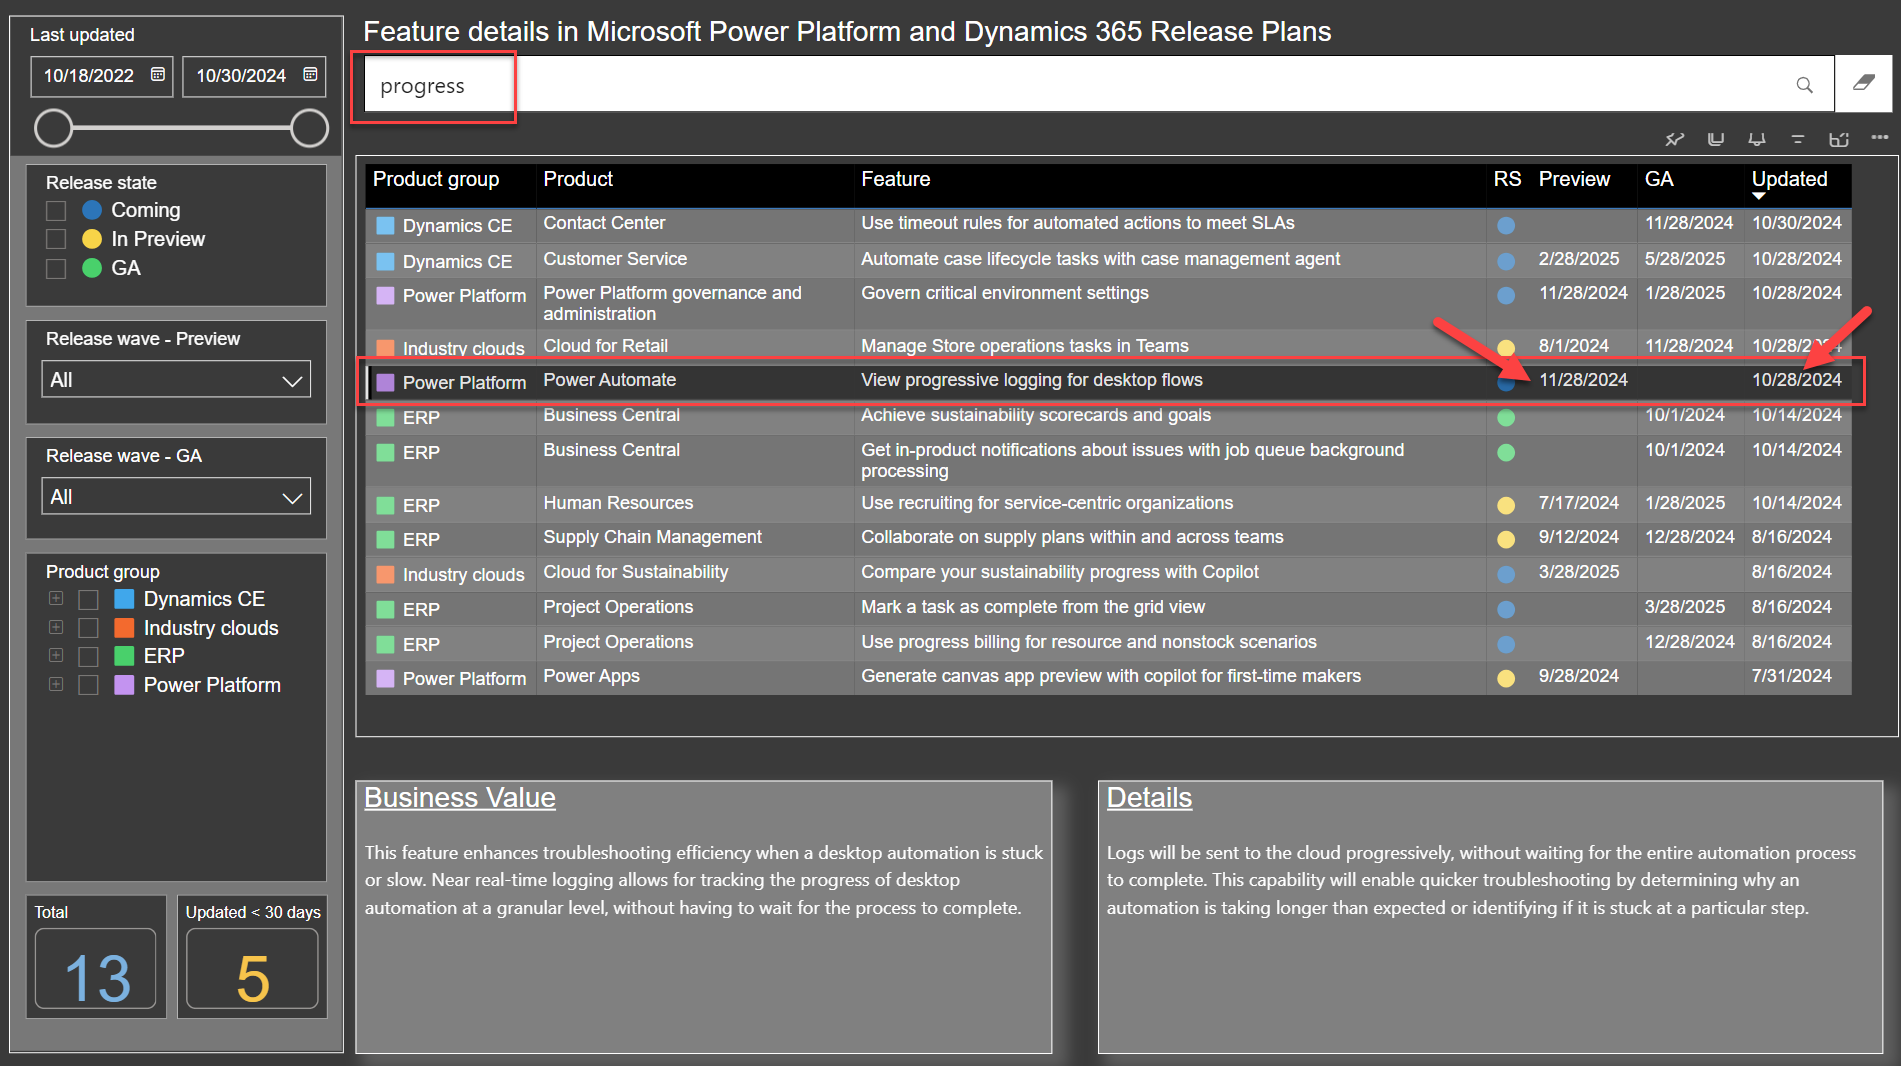

Layout of this report page (visuals, bound fields, positions):
{"tool":"powerbi","page":{"name":"Feature Details","canvas":[1280,720],"ordinal":0},"visuals":[{"type":"shape","box":[6.4,14.6,222,687.8],"z":0},{"type":"slicer","fields":{"Values":["ReleasePlans.Last updated"]},"box":[7.3,15.5,219.2,91.9],"z":1000},{"type":"htmlContent443BE3AD55E043BF878BED274D3A6865","title":"Details","fields":{"content":["ReleasePlans.First Feature details"]},"box":[727.8,522.2,520.4,181],"z":2000},{"type":"tableEx","fields":{"Values":["ReleasePlans.Product group","ReleasePlans.Product name - Short","ReleasePlans.Feature name","ReleasePlans.Release status Icon","ReleasePlans.Public preview date","ReleasePlans.GA date","ReleasePlans.Last updated"]},"box":[235.6,107.3,1023.5,385.7],"z":3000},{"type":"htmlContent443BE3AD55E043BF878BED274D3A6865","title":"Business Value","fields":{"content":["ReleasePlans.First Business Value"]},"box":[235.6,522.2,462.1,181],"z":4000},{"type":"slicer","fields":{"Values":["ReleasePlans.Product group","ReleasePlans.Product name - Short"]},"box":[17.3,370.9,200.1,218.3],"z":5000},{"type":"slicer","fields":{"Values":["ReleasePlans.Release status Icon and Text"]},"box":[17.3,113.7,200.1,94.6],"z":6000},{"type":"slicer","title":"RW GA","fields":{"Values":["ReleasePlans.GA Release Wave"]},"box":[17.3,294.3,200,68.2],"z":7000},{"type":"slicer","title":"RW Preview","fields":{"Values":["ReleasePlans.Public Preview Release Wave"]},"box":[17.3,216.7,200,69.1],"z":8000},{"type":"textFilter25A4896A83E0487089E2B90C9AE57C8A","fields":{"field":["ReleasePlans.Feature details"]},"box":[235.6,15.5,1023.5,77.3],"z":9000},{"type":"cardVisual","fields":{"Data":["CountNonNull(ReleasePlans.Release Plan ID)"]},"box":[17.3,597.7,200,82.8],"z":10000}]}

Visuals, with their boxes on the page's 1280x720 design canvas (x1, y1, x2, y2). These are canvas units, not pixel positions in the 1901x1066 screenshot, which may show the page scaled, cropped or inside an application window:
shape: region(6, 15, 228, 702)
slicer - ReleasePlans.Last updated: region(7, 16, 226, 107)
"Details" htmlContent443BE3AD55E043BF878BED274D3A6865: region(728, 522, 1248, 703)
tableEx - ReleasePlans.Product group x ReleasePlans.Product name - Short: region(236, 107, 1259, 493)
"Business Value" htmlContent443BE3AD55E043BF878BED274D3A6865: region(236, 522, 698, 703)
slicer - ReleasePlans.Product group x ReleasePlans.Product name - Short: region(17, 371, 217, 589)
slicer - ReleasePlans.Release status Icon and Text: region(17, 114, 217, 208)
"RW GA" slicer: region(17, 294, 217, 362)
"RW Preview" slicer: region(17, 217, 217, 286)
textFilter25A4896A83E0487089E2B90C9AE57C8A - ReleasePlans.Feature details: region(236, 16, 1259, 93)
cardVisual - CountNonNull(ReleasePlans.Release Plan ID): region(17, 598, 217, 680)
